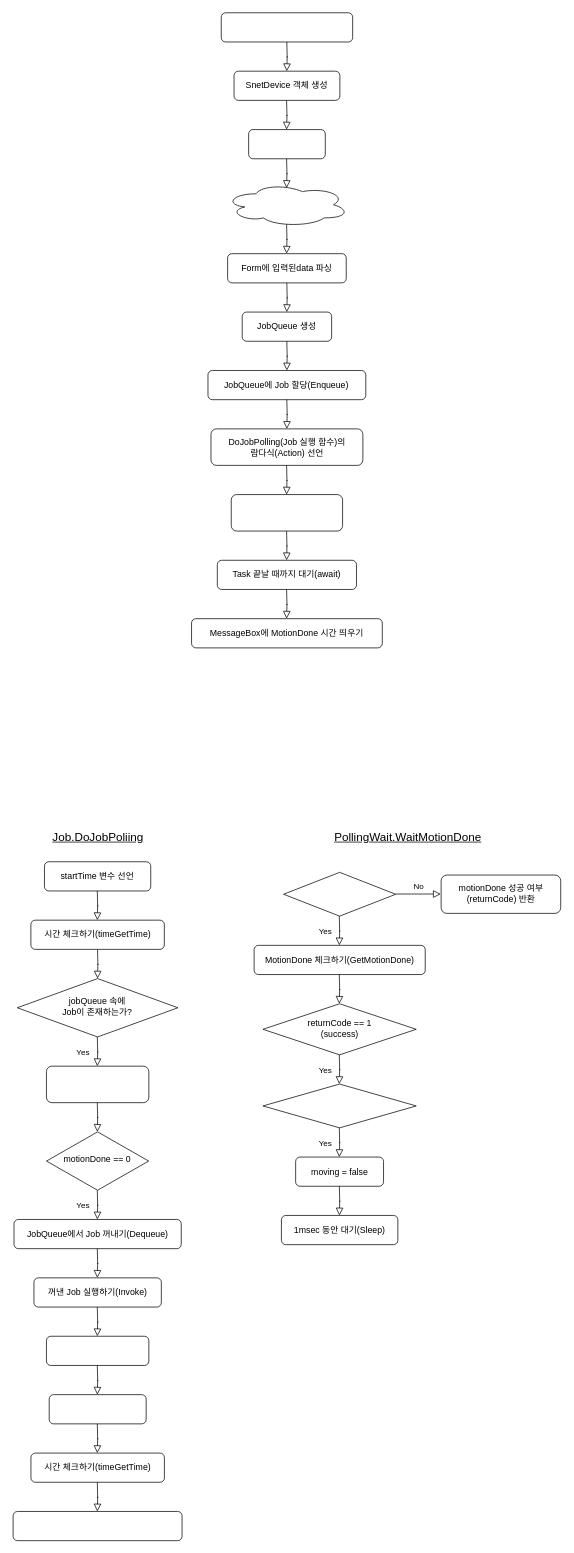
The diagram is 574 pixels wide and 1553 high, and some of its shapes have lost their labels. Each missing label, with the centre of its shape:
"buttonStart 클릭" belongs at point (286, 204).
"endTime 변수 선언" belongs at point (97, 1409).
"FormInterrupt 생성자 호출" belongs at point (287, 27).
"Job 객체 생성" belongs at point (286, 144).
"motionDone == true" belongs at point (339, 1105).
"MotionDone 체크" belongs at point (97, 1350).
"MotionDone 체크( WaitMotionDone )" belongs at point (97, 1084).
"moving == true" belongs at point (339, 894).
"Task 생성 및 실행 ( DoJobPolling )" belongs at point (287, 512).
"경과 시간(endTime - startTime) 반환" belongs at point (97, 1526).
